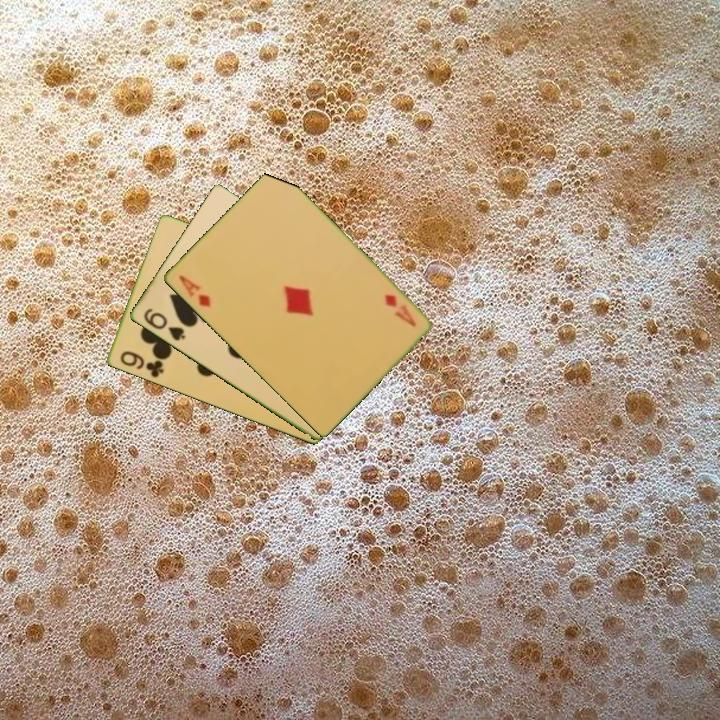6s: (140, 305, 188, 344)
9c: (116, 347, 167, 381)
Ad: (174, 272, 214, 311), (381, 291, 419, 330)
